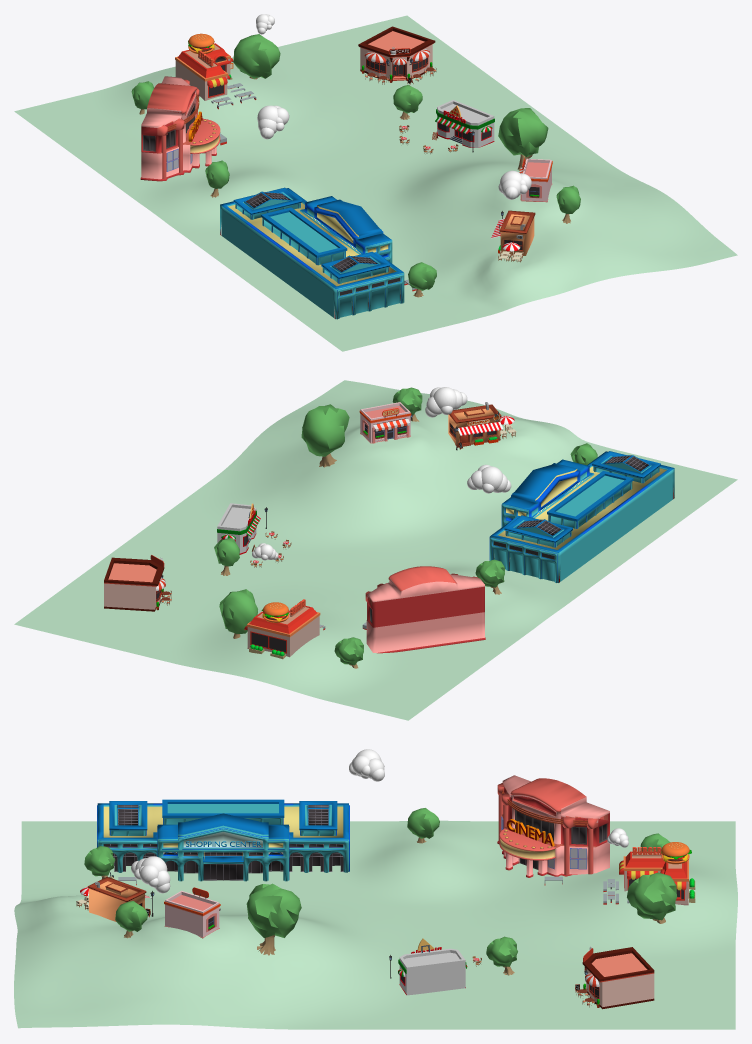
Rendered from mall.glb.
3 views of the same model, one above another, from view 1: azimuth 30°, elevation 25°; view 2: azimuth 150°, elevation 25°; view 3: azimuth 270°, elevation 25° (orthographic). The views are drawn at different scales.
Parts seen in each view (by area): view 1: ground, ShoppingCenterBuilding, Cinema, CafeBuilding, BurgerBuilding, PizzaBuilding, tree.3-t2, RestaurantBuilding, tree.5-t2, ShopBuilding, yun.1, yun.001 (+2 smaller); view 2: ground, ShoppingCenterBuilding, Cinema, BurgerBuilding, CafeBuilding, RestaurantBuilding, tree.3-t2, ShopBuilding, PizzaBuilding, tree.5-t2, yun.001, yun.1 (+3 smaller); view 3: ground, ShoppingCenterBuilding, Cinema, CafeBuilding, BurgerBuilding, PizzaBuilding, tree.3-t2, ShopBuilding, RestaurantBuilding, tree.5-t2, yun.001, yun.1 (+4 smaller).
Boxes of the visible parts, left/top/right/bottom form: ground: left=14, top=15, right=737, bottom=351; ShoppingCenterBuilding: left=220, top=187, right=404, bottom=319; Cinema: left=140, top=76, right=220, bottom=181; CafeBuilding: left=358, top=26, right=436, bottom=85; BurgerBuilding: left=175, top=33, right=256, bottom=109; PizzaBuilding: left=435, top=99, right=494, bottom=147; tree.3-t2: left=498, top=108, right=548, bottom=157; RestaurantBuilding: left=491, top=210, right=535, bottom=262; tree.5-t2: left=233, top=34, right=280, bottom=78; ShopBuilding: left=519, top=158, right=552, bottom=202; yun.1: left=257, top=105, right=289, bottom=139; yun.001: left=498, top=170, right=531, bottom=199; ground: left=14, top=380, right=737, bottom=720; ShoppingCenterBuilding: left=489, top=451, right=674, bottom=582; Cinema: left=365, top=566, right=485, bottom=653; BurgerBuilding: left=244, top=599, right=325, bottom=659; CafeBuilding: left=104, top=555, right=171, bottom=611; RestaurantBuilding: left=448, top=402, right=516, bottom=450; tree.3-t2: left=301, top=404, right=349, bottom=456; ShopBuilding: left=359, top=402, right=412, bottom=443; PizzaBuilding: left=217, top=503, right=260, bottom=554; tree.5-t2: left=219, top=589, right=257, bottom=633; yun.001: left=425, top=387, right=467, bottom=417; yun.1: left=467, top=464, right=511, bottom=493; ground: left=14, top=820, right=737, bottom=1029; ShoppingCenterBuilding: left=97, top=799, right=349, bottom=881; Cinema: left=497, top=775, right=609, bottom=877; CafeBuilding: left=575, top=946, right=654, bottom=1009; BurgerBuilding: left=603, top=842, right=695, bottom=905; PizzaBuilding: left=398, top=938, right=467, bottom=995; tree.3-t2: left=246, top=883, right=301, bottom=938; ShopBuilding: left=164, top=887, right=220, bottom=938; RestaurantBuilding: left=76, top=872, right=154, bottom=921; tree.5-t2: left=627, top=872, right=676, bottom=920; yun.001: left=131, top=856, right=170, bottom=893; yun.1: left=349, top=749, right=384, bottom=781.
Size of the model in its own units: 73.78 by 19.55 by 107.
5 materials, 1 textured.
